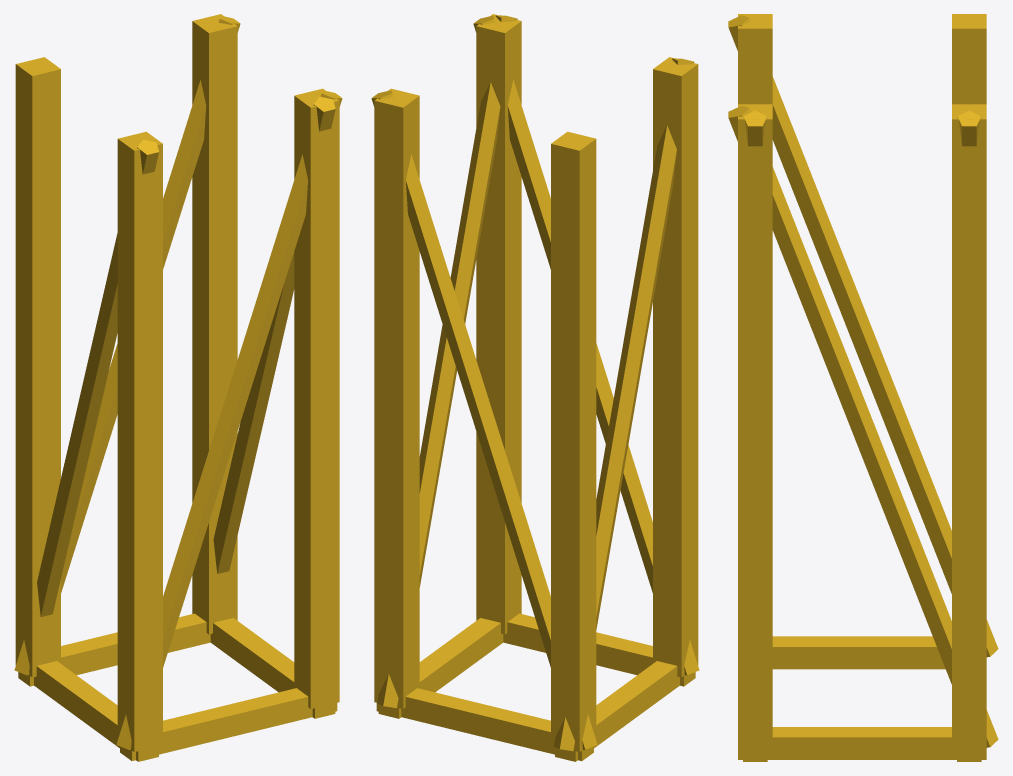
The model's file is crane-mast.glb.
The picture shows the model from 3 angles, left to right: view 1: azimuth 30°, elevation 25°; view 2: azimuth 150°, elevation 25°; view 3: azimuth 270°, elevation 25°; orthographic projection. The views are drawn at different scales.
Parts seen in each view (by area): view 1: part-crane; view 2: part-crane; view 3: part-crane.
Boxes of the visible parts, x1,y1,x2,y2 form: part-crane: [14, 14, 342, 761]; part-crane: [371, 14, 699, 761]; part-crane: [728, 14, 998, 761].
Bounding box in the file's own units: 5.43 × 14.33 × 5.43.
